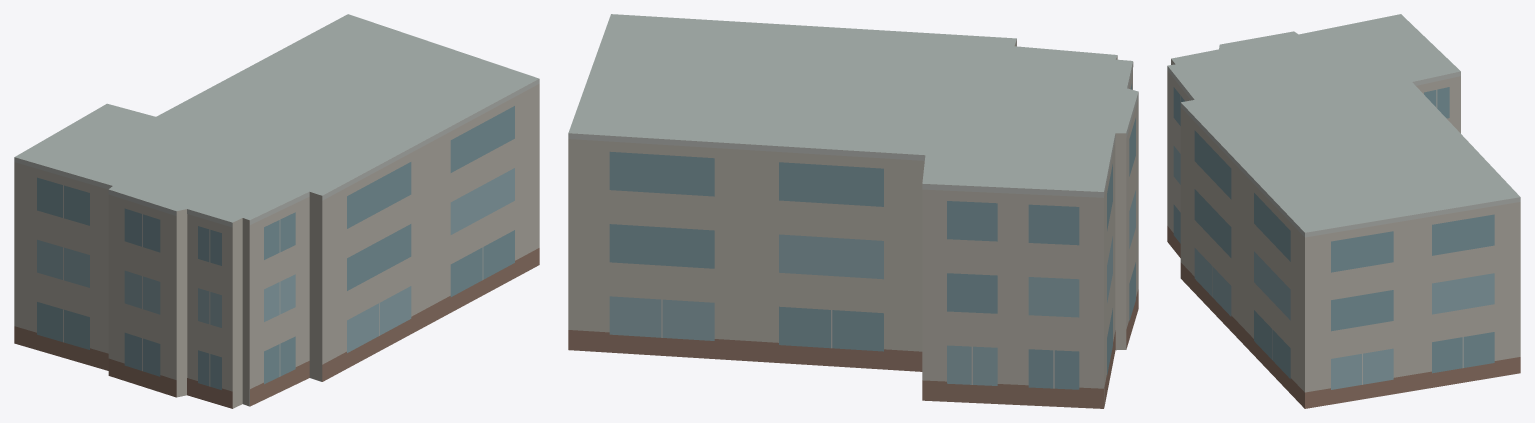
File: survey-upis-33041073.glb
The picture shows the model from 3 angles, left to right: view 1: azimuth 30°, elevation 25°; view 2: azimuth 150°, elevation 25°; view 3: azimuth 270°, elevation 25°; orthographic projection. The views are drawn at different scales.
Parts seen in each view (by area): view 1: survey-upis-33041073.tmp; view 2: survey-upis-33041073.tmp; view 3: survey-upis-33041073.tmp.
Boxes of the visible parts, x1=… form: survey-upis-33041073.tmp: x1=14, y1=14, x2=539, y2=408; survey-upis-33041073.tmp: x1=568, y1=14, x2=1138, y2=408; survey-upis-33041073.tmp: x1=1167, y1=14, x2=1520, y2=408.
Size of the model in its own units: 24.4 by 9.15 by 16.65.
